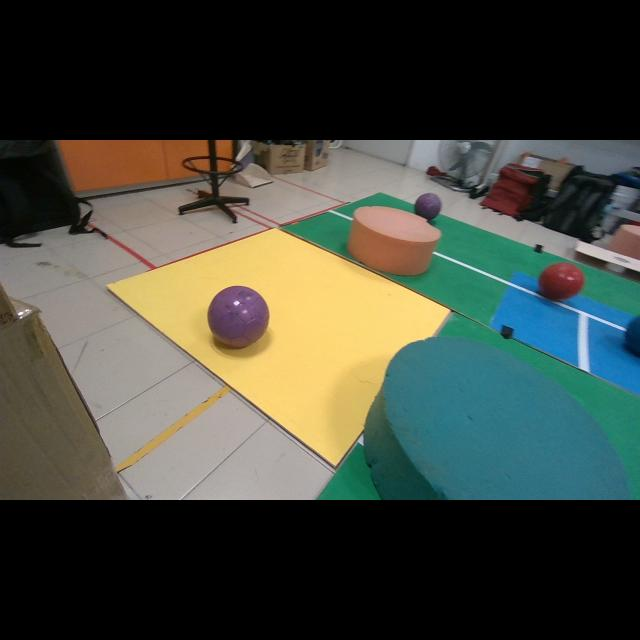B: (625, 316, 640, 356)
P: (208, 286, 269, 348), (415, 192, 441, 220)
R: (539, 262, 585, 300)
